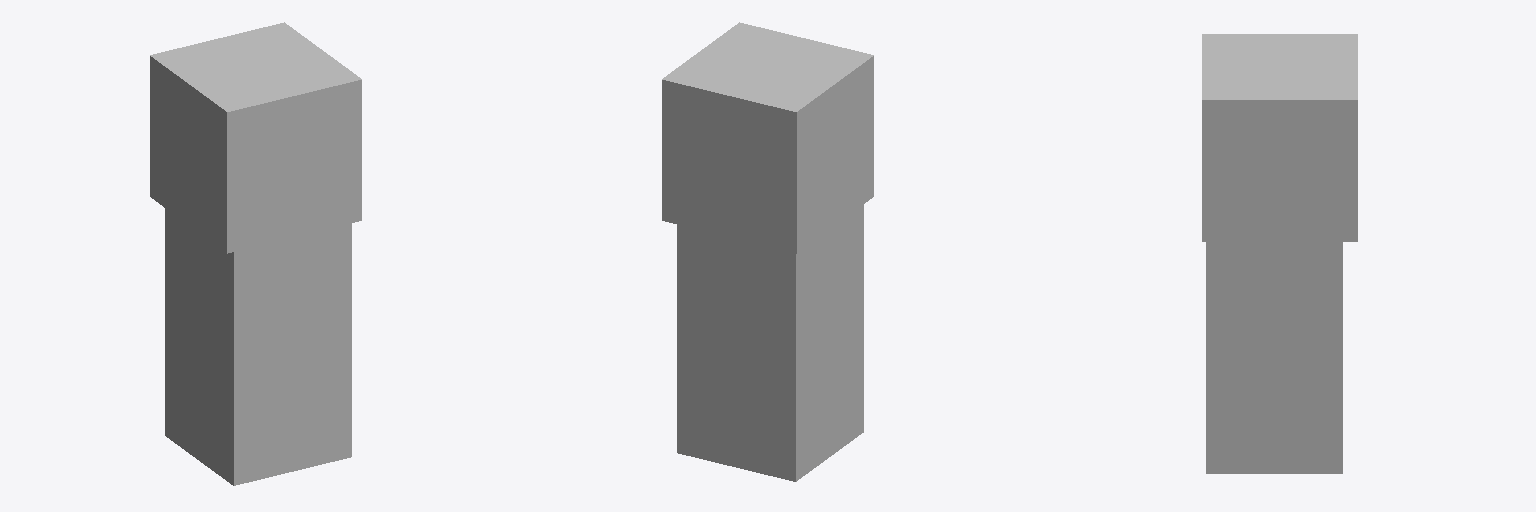
The model's file is arm_heavy_arm.obj.
3 views of the same model, side by side, from view 1: azimuth 30°, elevation 25°; view 2: azimuth 150°, elevation 25°; view 3: azimuth 270°, elevation 25° (orthographic).
Parts seen in each view (by area): view 1: arm_jacket_arm_Cube.001; view 2: arm_jacket_arm_Cube.001; view 3: arm_jacket_arm_Cube.001.
Part boxes in pixels (x1,y1,x2,y2): arm_jacket_arm_Cube.001: (150,22,361,485); arm_jacket_arm_Cube.001: (662,22,873,481); arm_jacket_arm_Cube.001: (1202,34,1357,473).
Bounding box in the file's own units: 1.14 × 3.04 × 1.14.